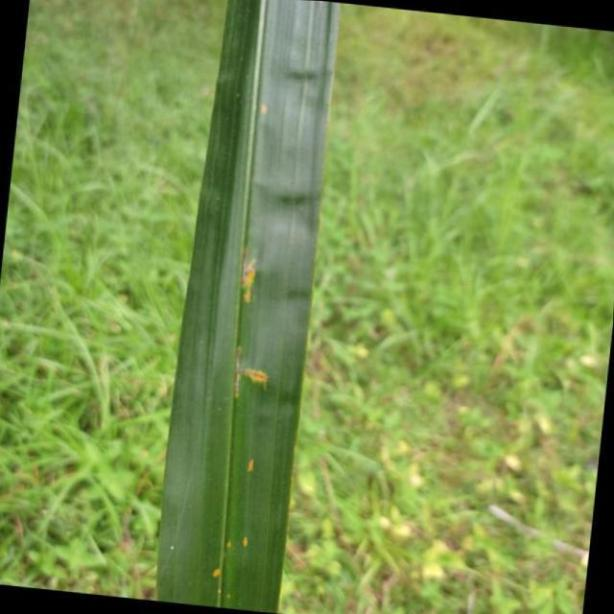Boron: (158, 0, 340, 604)
